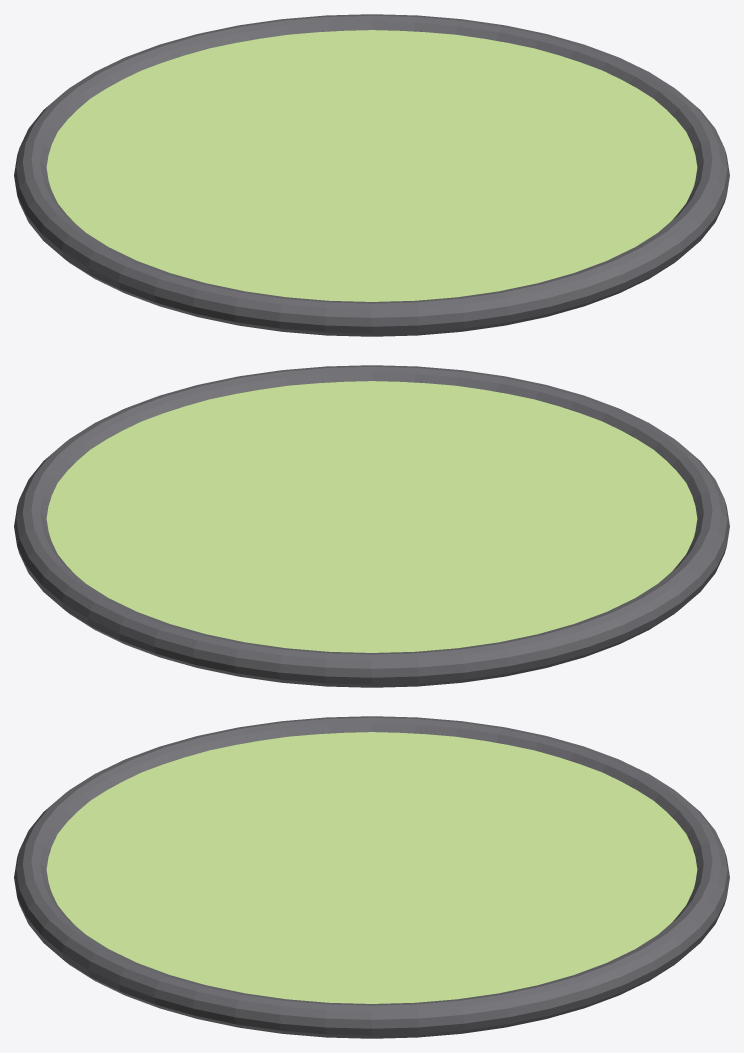
File: Toy_SpawnPad_Lime.fbx
The picture shows the model from 3 angles, top to bottom: view 1: azimuth 30°, elevation 25°; view 2: azimuth 150°, elevation 25°; view 3: azimuth 270°, elevation 25°; orthographic projection.
Parts seen in each view (by area): view 1: Toy_SpawnPad_Lime; view 2: Toy_SpawnPad_Lime; view 3: Toy_SpawnPad_Lime.
Part boxes in pixels (x1=…): Toy_SpawnPad_Lime: x1=14, y1=14, x2=729, y2=336; Toy_SpawnPad_Lime: x1=14, y1=365, x2=729, y2=687; Toy_SpawnPad_Lime: x1=14, y1=716, x2=729, y2=1038.
Size of the model in its own units: 1.64 by 0.08 by 1.64.
